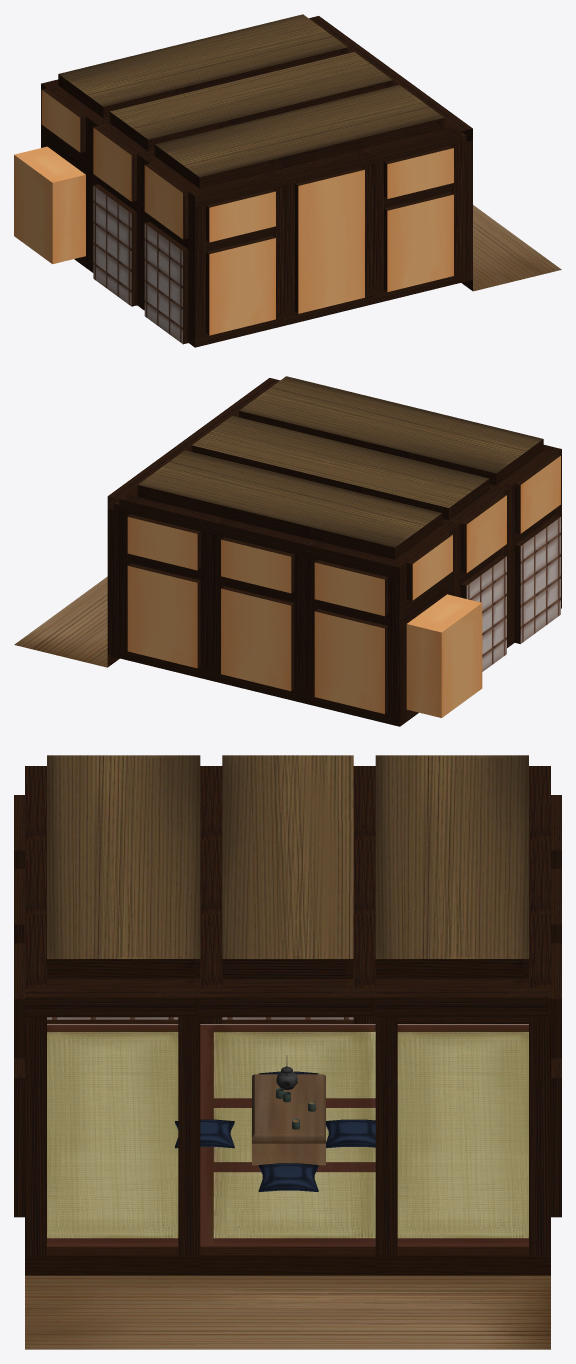
The model's file is room.glb.
3 renders of one model, top to bottom at view 1: azimuth 30°, elevation 25°; view 2: azimuth 150°, elevation 25°; view 3: azimuth 270°, elevation 25°, orthographic. The views are drawn at different scales.
Parts seen in each view (by area): view 1: Object_4, Object_3; view 2: Object_4, Object_3; view 3: Object_3, Object_4, Object_9, Object_8.
Boxes of the visible parts, box(x1,y1,x2,y2) form: Object_4: box(14, 16, 472, 347); Object_3: box(41, 14, 561, 291); Object_4: box(107, 378, 561, 726); Object_3: box(14, 376, 561, 667); Object_3: box(25, 755, 550, 1349); Object_4: box(14, 795, 561, 1255); Object_9: box(252, 1074, 325, 1165); Object_8: box(175, 1071, 375, 1191).
Size of the model in its own units: 1097 by 457 by 762.
Materials: 8 (8 with a texture image).
